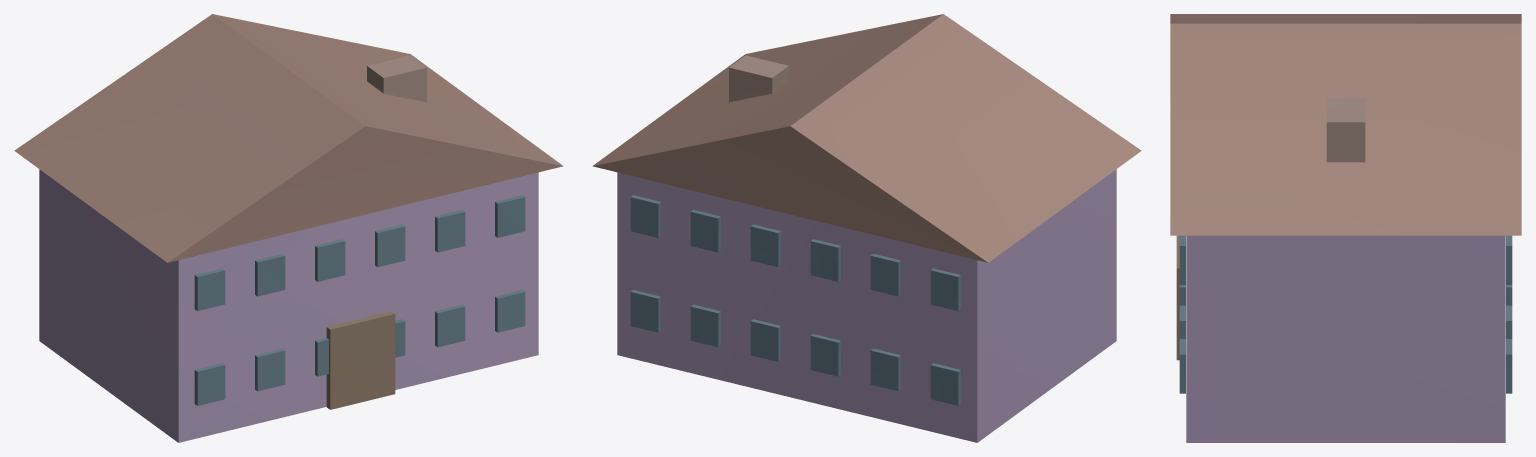
The model's file is barn-00.glb.
3 views of the same model, side by side, from view 1: azimuth 30°, elevation 25°; view 2: azimuth 150°, elevation 25°; view 3: azimuth 270°, elevation 25° (orthographic). The views are drawn at different scales.
Visible parts, largest first — view 1: world; view 2: world; view 3: world.
Boxes of the visible parts, x1,y1,x2,y2 form: world: (14,14,563,442); world: (592,14,1141,442); world: (1170,14,1521,442).
Bounding box in the file's own units: 2.07 × 1.39 × 1.38.
